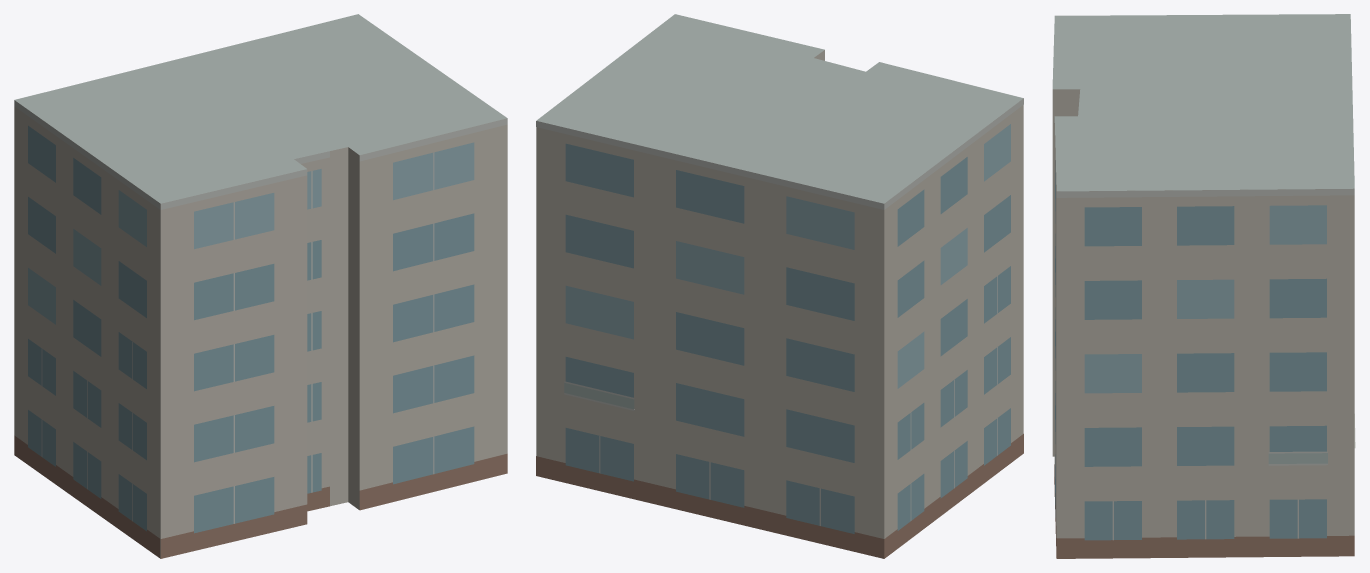
File: survey-upis-32550565.glb
3 renders of one model, left to right at view 1: azimuth 30°, elevation 25°; view 2: azimuth 150°, elevation 25°; view 3: azimuth 270°, elevation 25°, orthographic. The views are drawn at different scales.
Parts seen in each view (by area): view 1: survey-upis-32550565.tmp; view 2: survey-upis-32550565.tmp; view 3: survey-upis-32550565.tmp.
Boxes of the visible parts, left/top/right/bottom form: survey-upis-32550565.tmp: left=14, top=14, right=507, bottom=558; survey-upis-32550565.tmp: left=536, top=14, right=1023, bottom=558; survey-upis-32550565.tmp: left=1052, top=14, right=1355, bottom=558.
Size of the model in its own units: 14.3 by 13.8 by 10.32.
